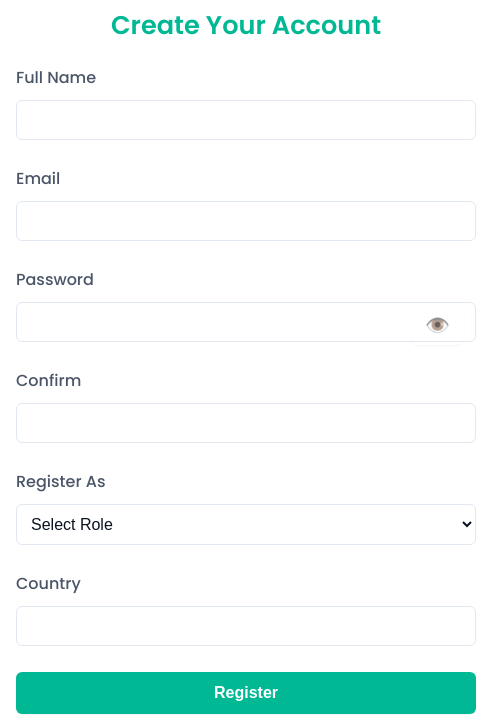
Scenario: RegisterPage (customer) › shows field-specific error from backend
Type "Test User" into the field labelled "Full Name".
click(246, 120); type("Test User")  # box [16, 100, 476, 140]
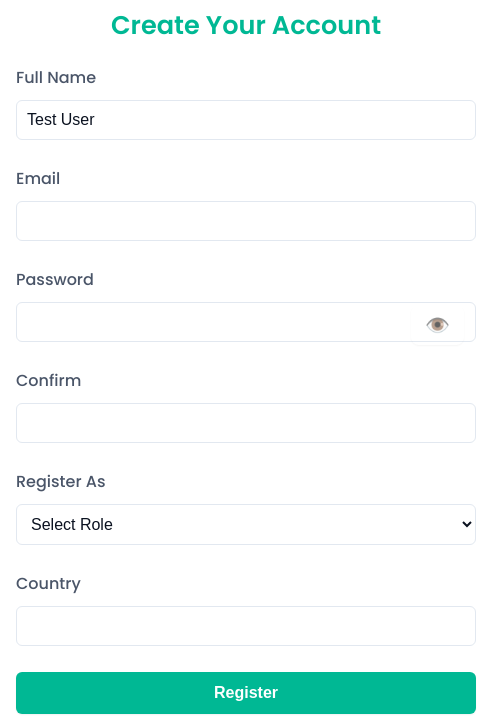
Note: Use a valid email so frontend validation passes and backend error is shown
Type "test@example.com" into the field labelled "Email".
click(246, 221); type("test@example.com")  # box [16, 201, 476, 241]
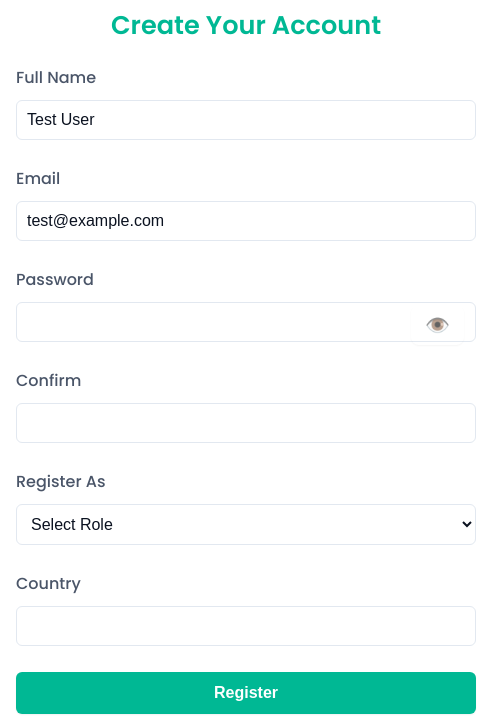
Type "password123" into the password field labelled "Password".
click(246, 322); type("password123")  # box [16, 302, 476, 342]
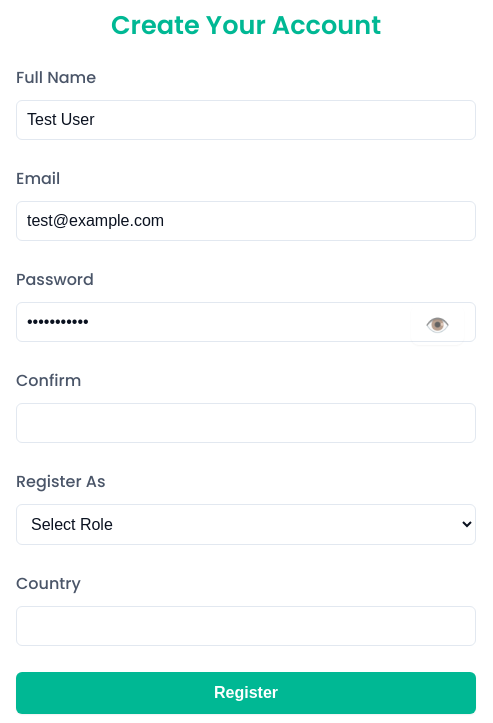
Type "Ethiopia" into the field labelled "Country".
click(246, 626); type("Ethiopia")  # box [16, 606, 476, 646]
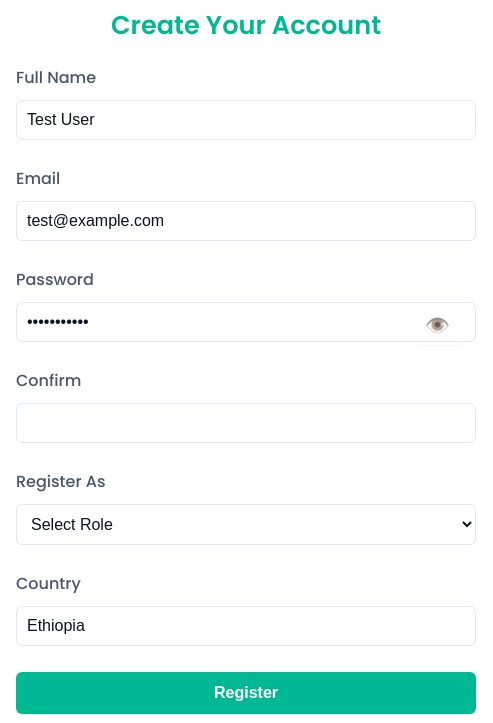
Select "Customer (Buyer)" in the dropdown labelled "Register As" at (246, 524), box [16, 504, 476, 545]
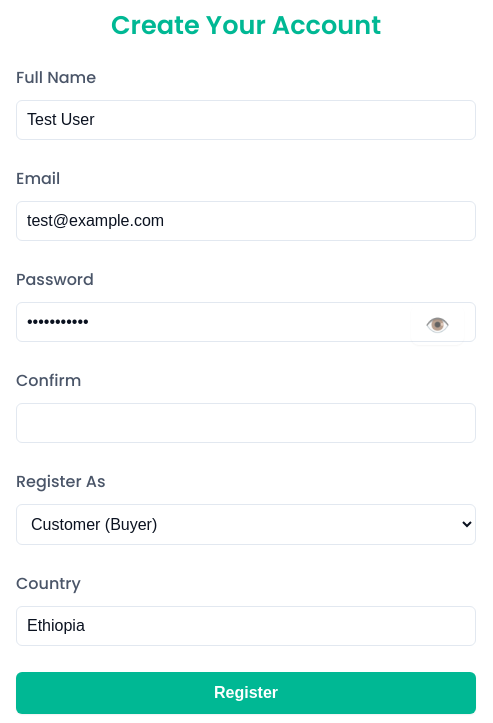
Click the button "Register".
click(246, 693)  # box [16, 672, 476, 714]
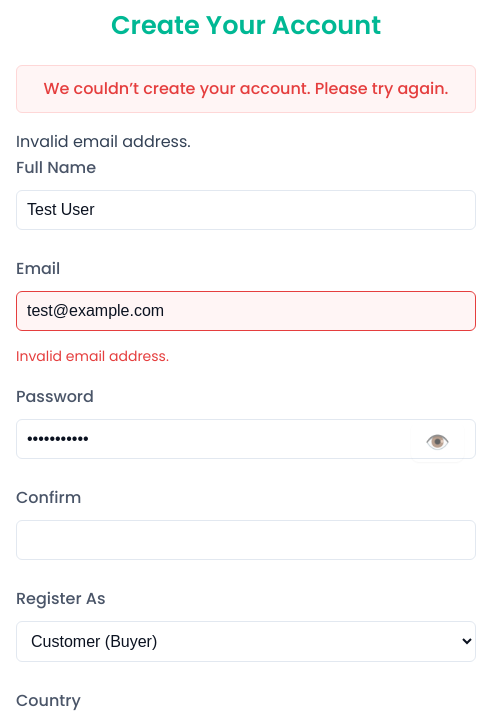
Result: the text with test id "email-error" shows "Invalid email address" at [16, 346, 169, 366]
